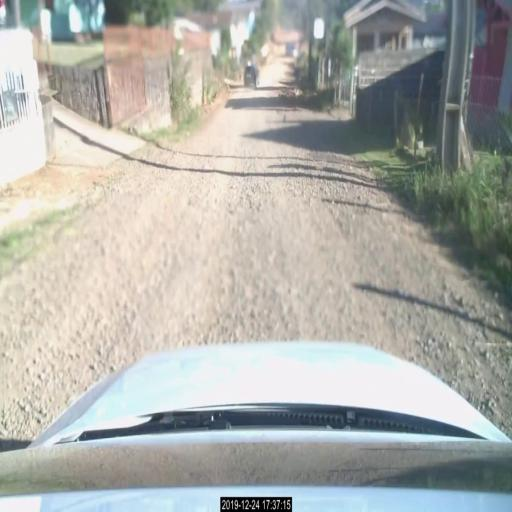Pothole: (223, 106, 352, 199), (50, 267, 174, 341)
